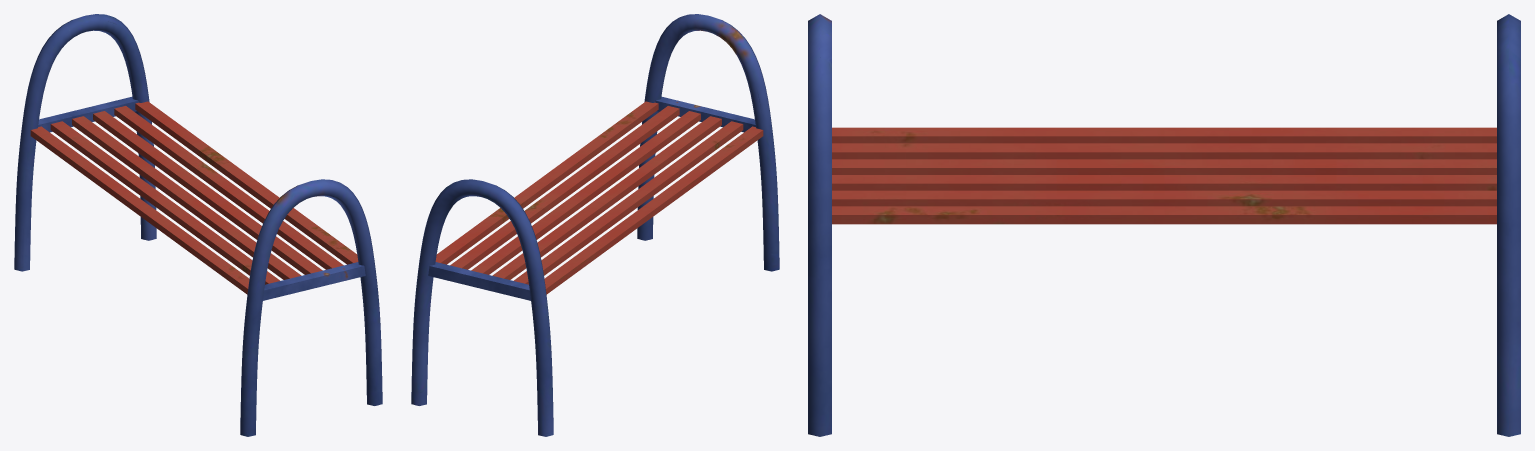
Rendered from bench_ussr.glb.
The picture shows the model from 3 angles, left to right: view 1: azimuth 30°, elevation 25°; view 2: azimuth 150°, elevation 25°; view 3: azimuth 270°, elevation 25°; orthographic projection. The views are drawn at different scales.
Visible parts, largest first — view 1: bench_ussr; view 2: bench_ussr; view 3: bench_ussr.
Boxes of the visible parts, <box> form: bench_ussr: <box>14,14,382,436</box>; bench_ussr: <box>411,14,779,436</box>; bench_ussr: <box>808,14,1520,436</box>.
Size of the model in its own units: 0.7281 by 1.16 by 2.07.
Materials: 3 (3 with a texture image).
